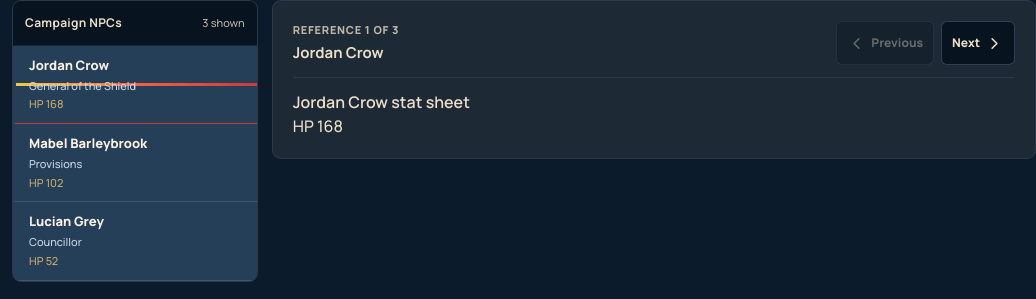
GM roster split reference › shows a short name list and exactly one full stat block
This screenshot has width=1036, height=299.
Expected: the number of elements with test id "single-stat-sheet" is 1, [293, 91, 470, 137]
Expected: the heading "Jordan Crow stat sheet" is shown, [293, 91, 470, 113]
Click the button with test id "roster-select-mabel": (135, 163) [13, 124, 257, 202]
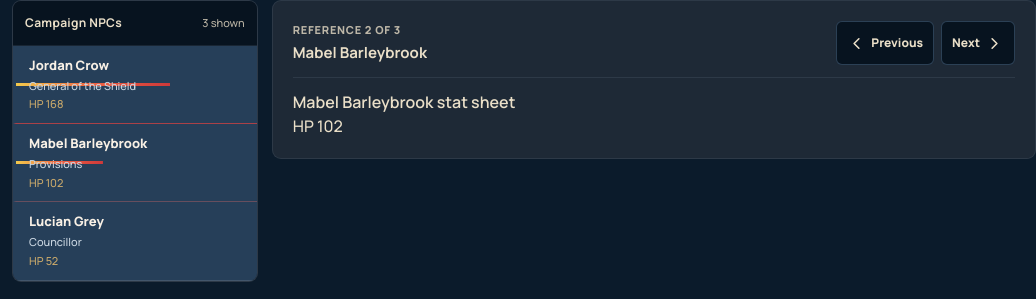
Result: the heading "Mabel Barleybrook stat sheet" is shown at [293, 91, 515, 113]
Result: the heading "Jordan Crow stat sheet" is gone
